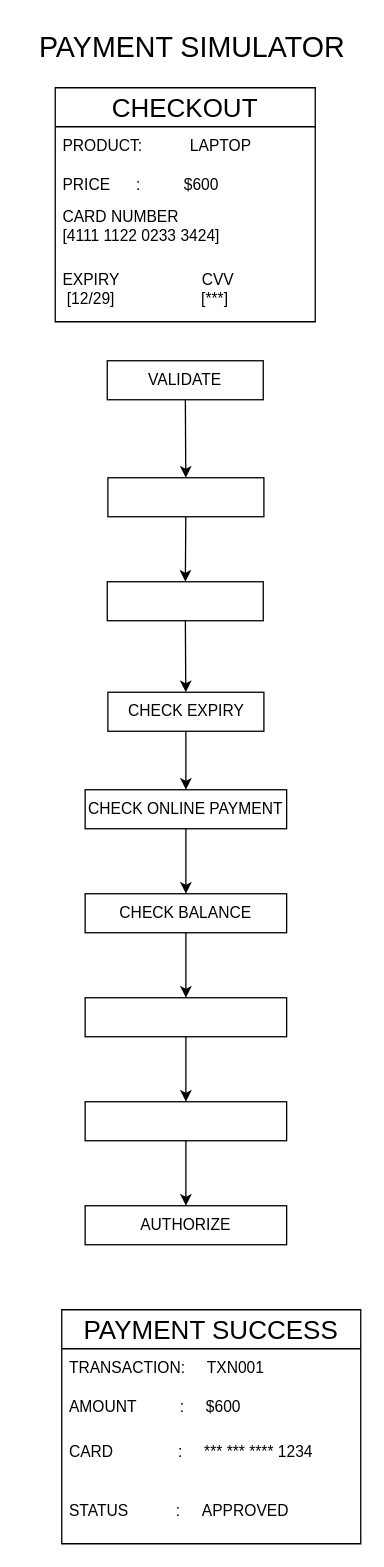
Some shapes in this 384 by 1567 pixel diagram are drawn without their labels. Here are the shapes that lost their labels. From the top down, the centre of each, then its label:
At point 185,496: "FIND CARD".
At point 184,600: "CHECK STATUS".
At point 185,1016: "CHECK LIMIT".
At point 185,1120: "SECURITY CHECK".
